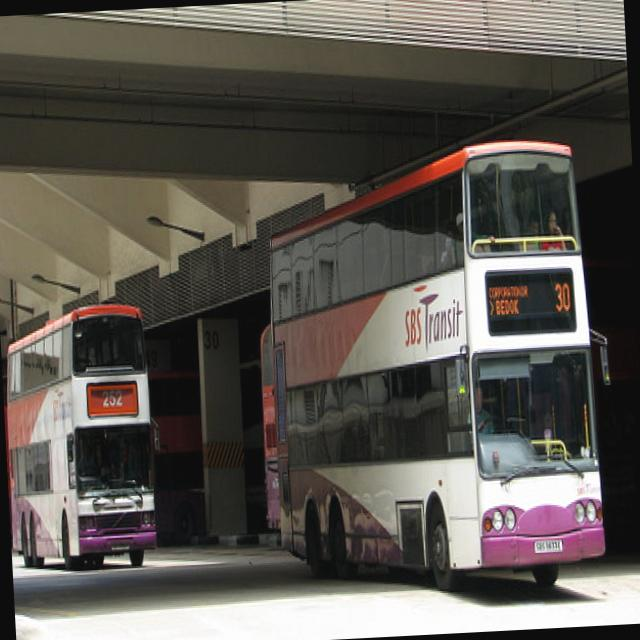Vehicle: (261, 146, 606, 582), (0, 300, 158, 588), (147, 364, 271, 548), (257, 320, 283, 531)
